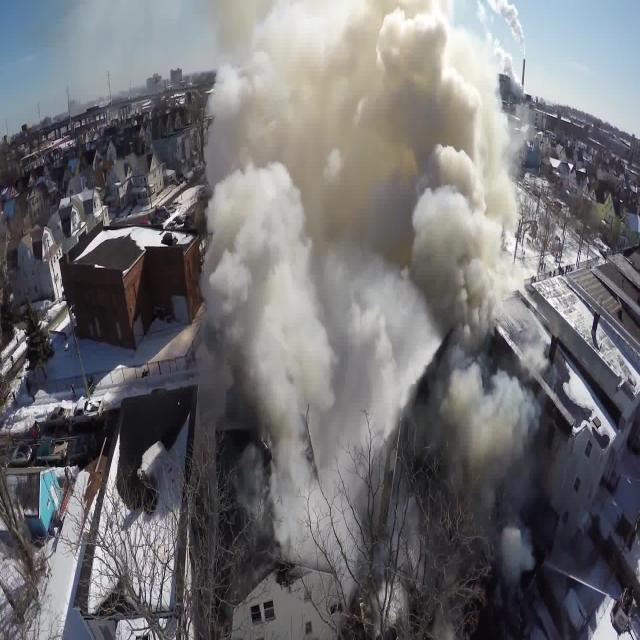Smoke: (206, 0, 554, 575)
